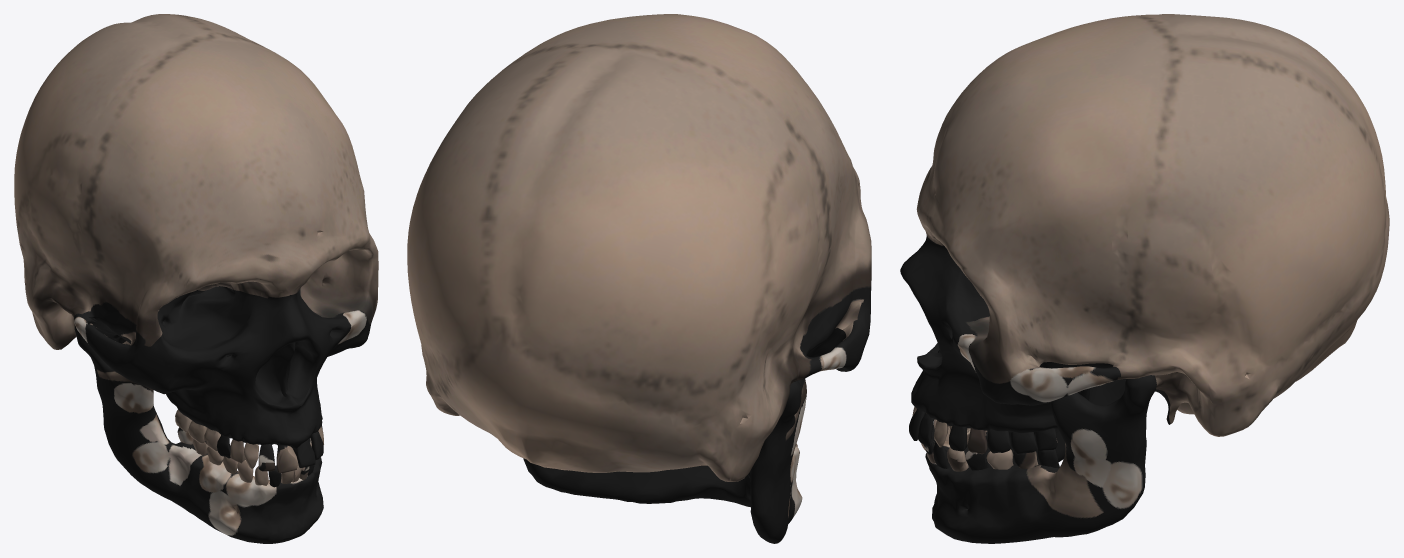
The model's file is skull_textures.gltf.
3 views of the same model, side by side, from view 1: azimuth 30°, elevation 25°; view 2: azimuth 150°, elevation 25°; view 3: azimuth 270°, elevation 25° (orthographic). The views are drawn at different scales.
Parts seen in each view (by area): view 1: craneoOBJcleanergles; view 2: craneoOBJcleanergles; view 3: craneoOBJcleanergles.
Boxes of the visible parts, x1,y1,x2,y2 form: craneoOBJcleanergles: [14, 14, 378, 543]; craneoOBJcleanergles: [407, 14, 871, 543]; craneoOBJcleanergles: [900, 14, 1389, 543].
Size of the model in its own units: 1.34 by 2 by 1.79.
1 material, 1 textured.
